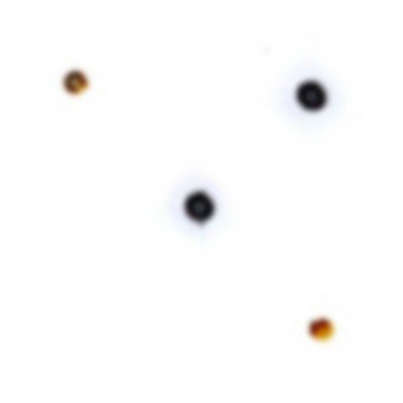cancer: (273, 64, 354, 135), (174, 179, 235, 243)
normal: (301, 297, 347, 347), (55, 62, 109, 101)
